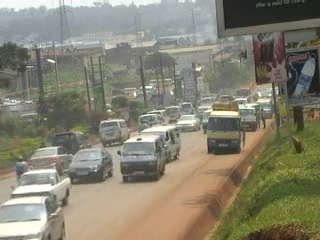Car: (0, 194, 73, 239), (65, 145, 115, 183), (28, 143, 76, 175), (51, 128, 94, 156), (172, 111, 202, 133), (135, 113, 164, 127)
Motorcycle: (13, 155, 28, 183), (135, 118, 150, 135)
